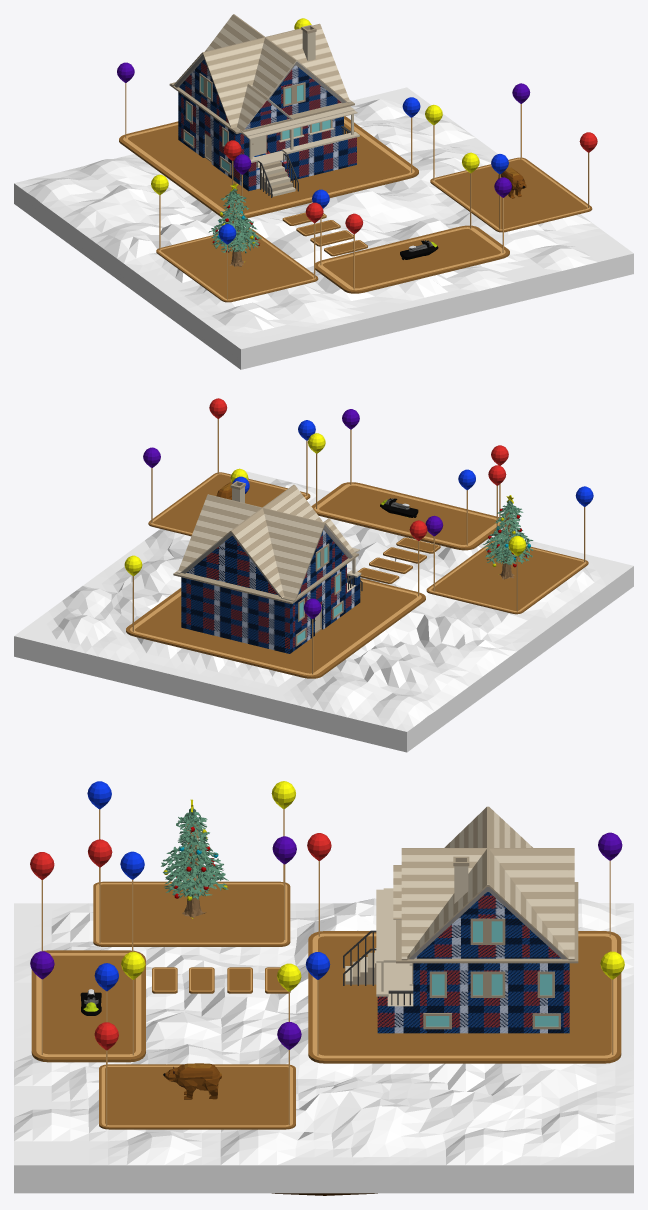
The picture shows the model from 3 angles, top to bottom: view 1: azimuth 30°, elevation 25°; view 2: azimuth 150°, elevation 25°; view 3: azimuth 270°, elevation 25°; orthographic projection. The views are drawn at different scales.
Visible parts, largest first — view 1: Cube.013, Cube.171, OBJRANDOM_CHRISTMAS_TREE; view 2: Cube.013, Cube.171, OBJRANDOM_CHRISTMAS_TREE; view 3: Cube.013, Cube.171, OBJRANDOM_CHRISTMAS_TREE, ANIMAL_OSO.
Boxes of the visible parts, x1,y1,x2,y2 form: Cube.013: [14, 18, 633, 369]; Cube.171: [169, 14, 359, 197]; OBJRANDOM_CHRISTMAS_TREE: [208, 183, 261, 266]; Cube.013: [14, 398, 633, 752]; Cube.171: [173, 481, 362, 653]; OBJRANDOM_CHRISTMAS_TREE: [483, 495, 533, 579]; Cube.013: [14, 781, 633, 1193]; Cube.171: [343, 806, 578, 1033]; OBJRANDOM_CHRISTMAS_TREE: [161, 799, 228, 918]; ANIMAL_OSO: [163, 1063, 221, 1099].
Size of the model in its own units: 4000 by 1754 by 4000.
31 materials, 2 textured.
